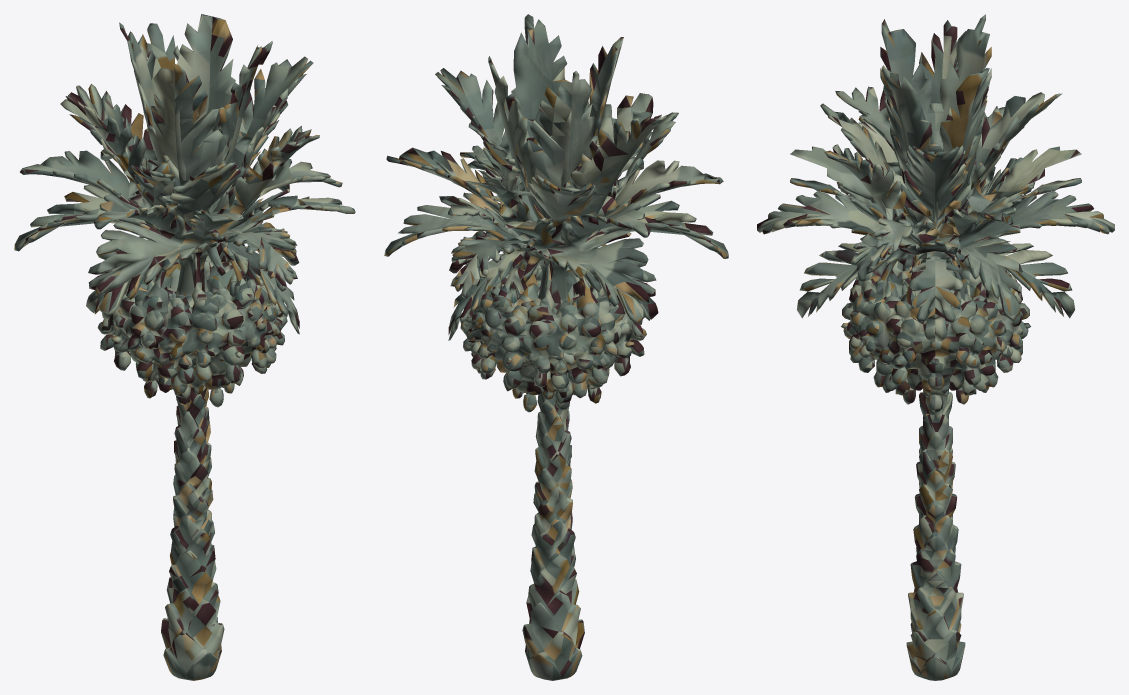
File: Tree 3.fbx
The picture shows the model from 3 angles, left to right: view 1: azimuth 30°, elevation 25°; view 2: azimuth 150°, elevation 25°; view 3: azimuth 270°, elevation 25°; orthographic projection.
Parts seen in each view (by area): view 1: tripo_node_9f2ed7be; view 2: tripo_node_9f2ed7be; view 3: tripo_node_9f2ed7be.
Boxes of the visible parts, bbox=[...] form: tripo_node_9f2ed7be: bbox=[14, 14, 355, 680]; tripo_node_9f2ed7be: bbox=[384, 14, 728, 680]; tripo_node_9f2ed7be: bbox=[757, 14, 1114, 680].
Size of the model in its own units: 0.4362 by 0.9995 by 0.5105.
